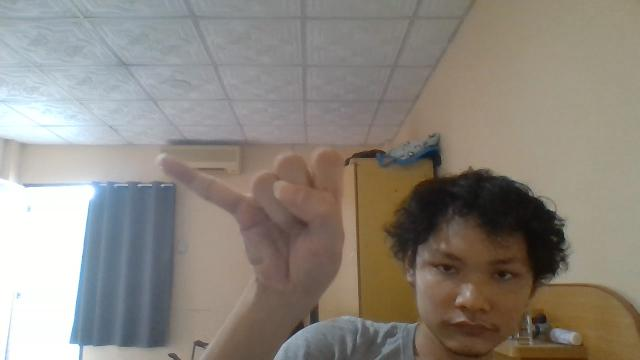Right: (160, 142, 354, 298)
